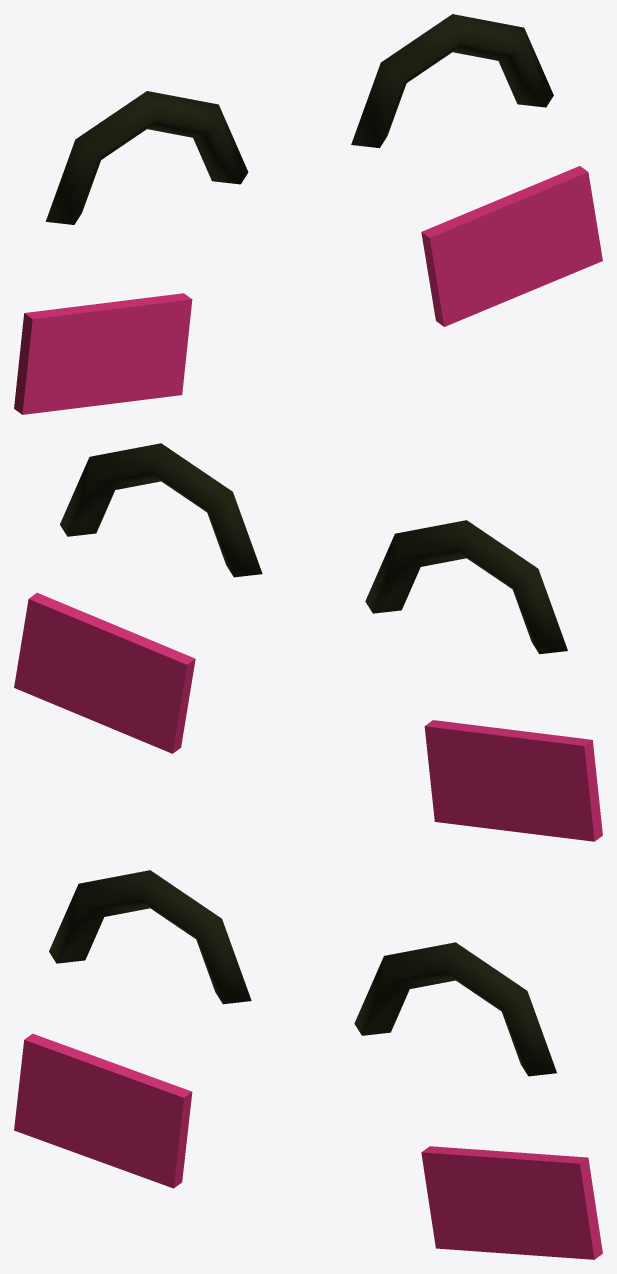
File: Happy.glb
3 views of the same model, one above another, from view 1: azimuth 30°, elevation 25°; view 2: azimuth 150°, elevation 25°; view 3: azimuth 330°, elevation 25° (orthographic).
Visible parts, largest first — view 1: Happy; view 2: Happy; view 3: Happy.
Boxes of the visible parts, x1=… form: Happy: x1=14, y1=14, x2=602, y2=414; Happy: x1=14, y1=443, x2=602, y2=841; Happy: x1=14, y1=870, x2=602, y2=1259.
Bounding box in the file's own units: 5.24 × 2.67 × 0.3295.
Materials: 1 (1 with a texture image).
